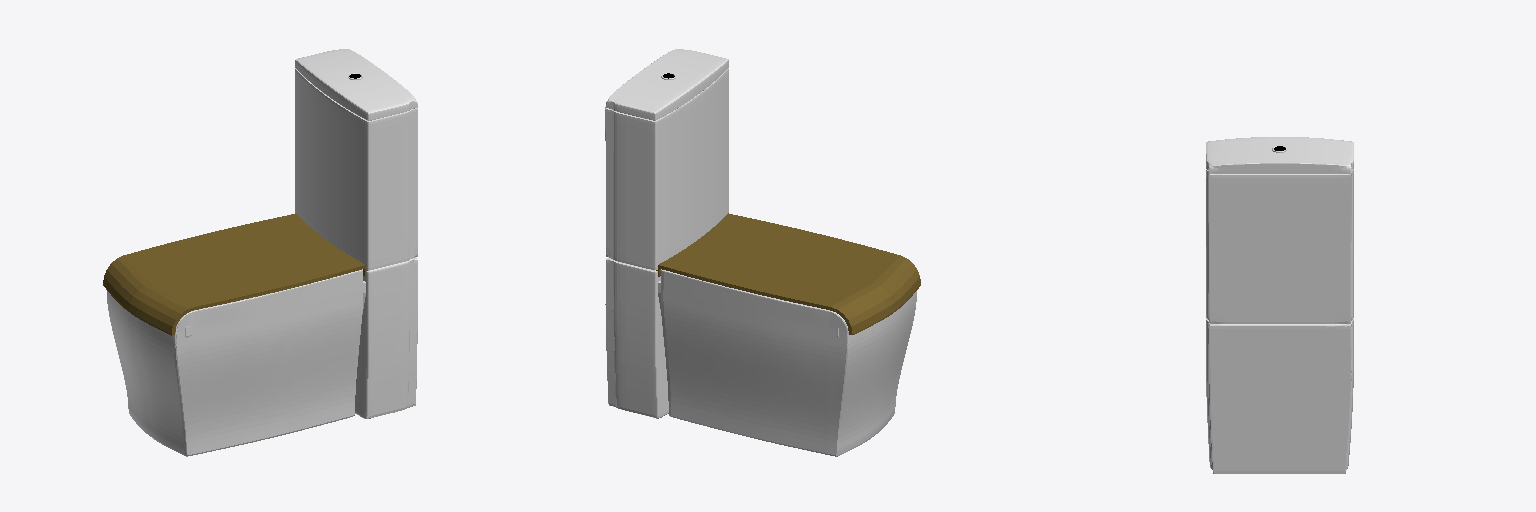
File: toilette.obj
3 renders of one model, left to right at view 1: azimuth 30°, elevation 25°; view 2: azimuth 150°, elevation 25°; view 3: azimuth 270°, elevation 25°, orthographic.
Parts seen in each view (by area): view 1: Rectangle1, Box01, Rectangle0; view 2: Rectangle1, Box01, Rectangle0; view 3: Box01.
Part boxes in pixels (bbox=[...]): Rectangle1: bbox=[107, 269, 362, 456]; Box01: bbox=[295, 49, 417, 418]; Rectangle0: bbox=[103, 214, 367, 335]; Rectangle1: bbox=[661, 269, 916, 456]; Box01: bbox=[605, 49, 728, 418]; Rectangle0: bbox=[656, 213, 920, 334]; Box01: bbox=[1206, 137, 1353, 473].
Size of the model in its own units: 57.09 by 67.46 by 29.06.